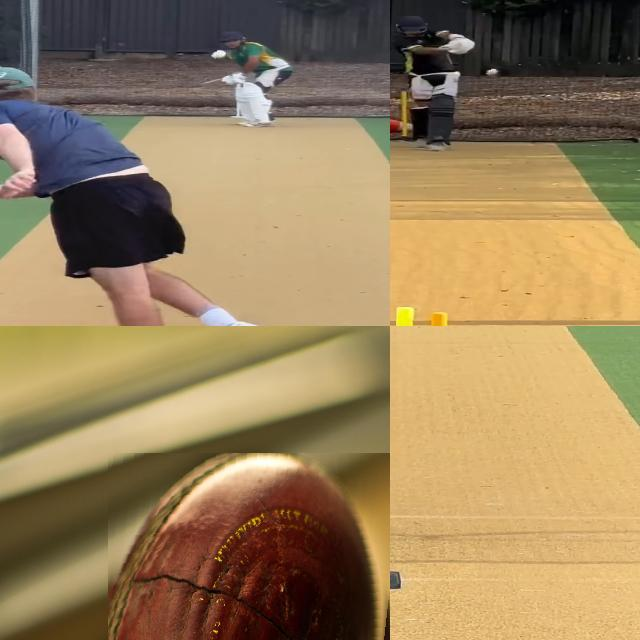Cricket ball: (108, 453, 390, 640), (211, 50, 228, 61), (485, 68, 501, 77)
